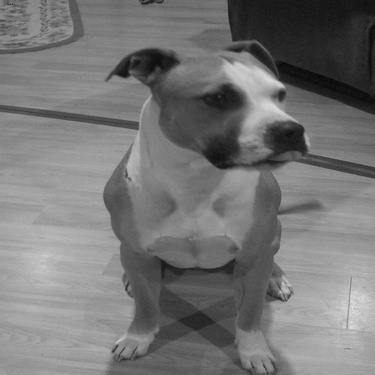dog: (90, 36, 313, 373)
